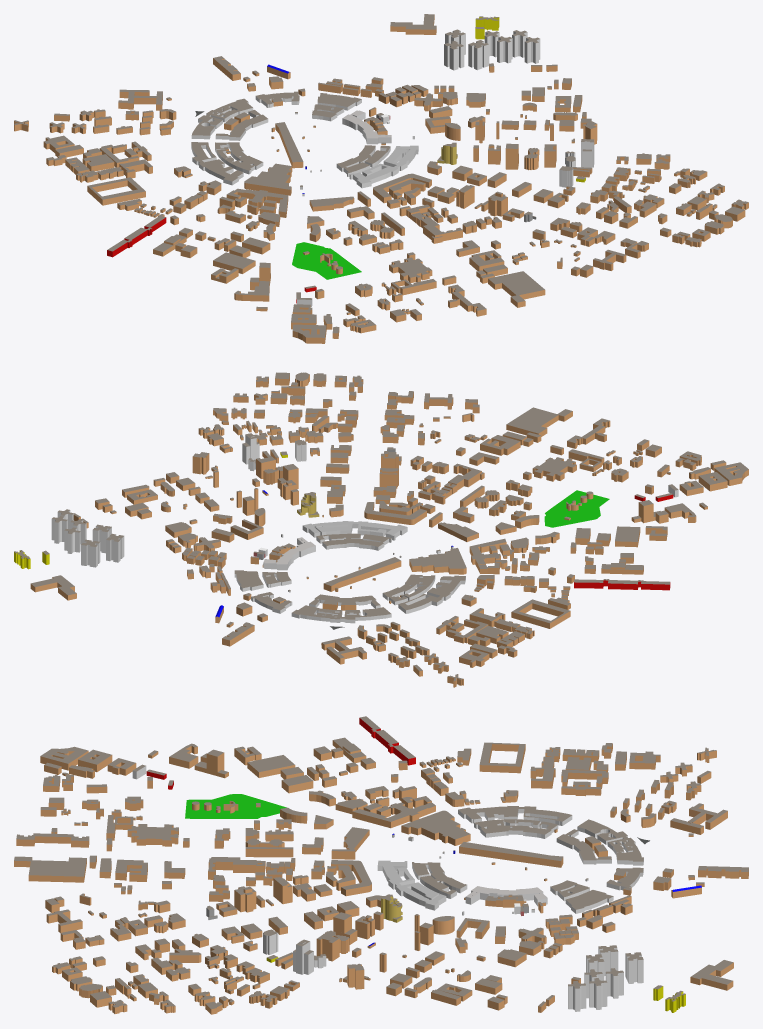
3 renders of one model, top to bottom at view 1: azimuth 30°, elevation 25°; view 2: azimuth 150°, elevation 25°; view 3: azimuth 270°, elevation 25°, orthographic. The views are drawn at different scales.
Parts seen in each view (by area): view 1: map.osm_buildings, map.osm_vegetation; view 2: map.osm_buildings, map.osm_vegetation; view 3: map.osm_buildings, map.osm_vegetation.
Part boxes in pixels (x1,y1,x2,y2): map.osm_buildings: (14,14,748,343); map.osm_vegetation: (292,242,361,279); map.osm_buildings: (14,372,748,687); map.osm_vegetation: (544,490,609,527); map.osm_buildings: (14,716,748,1014); map.osm_vegetation: (185,794,286,818).
Size of the model in its own units: 1582 by 73.29 by 1683.
